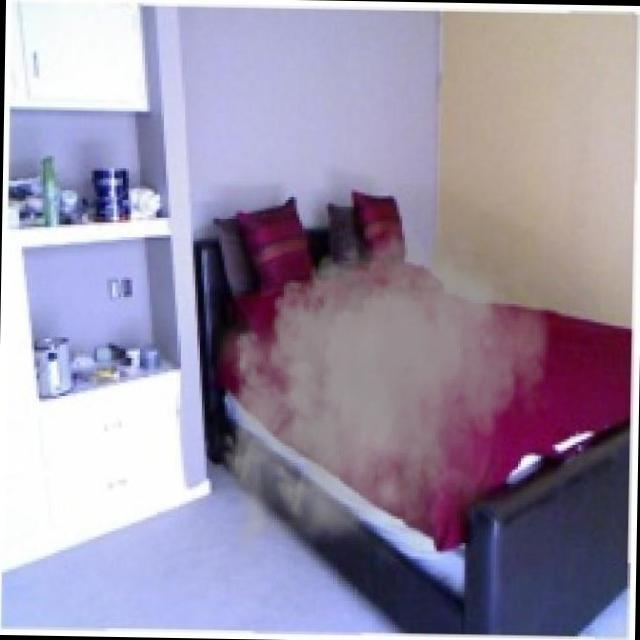Smoke: (205, 210, 562, 576)
